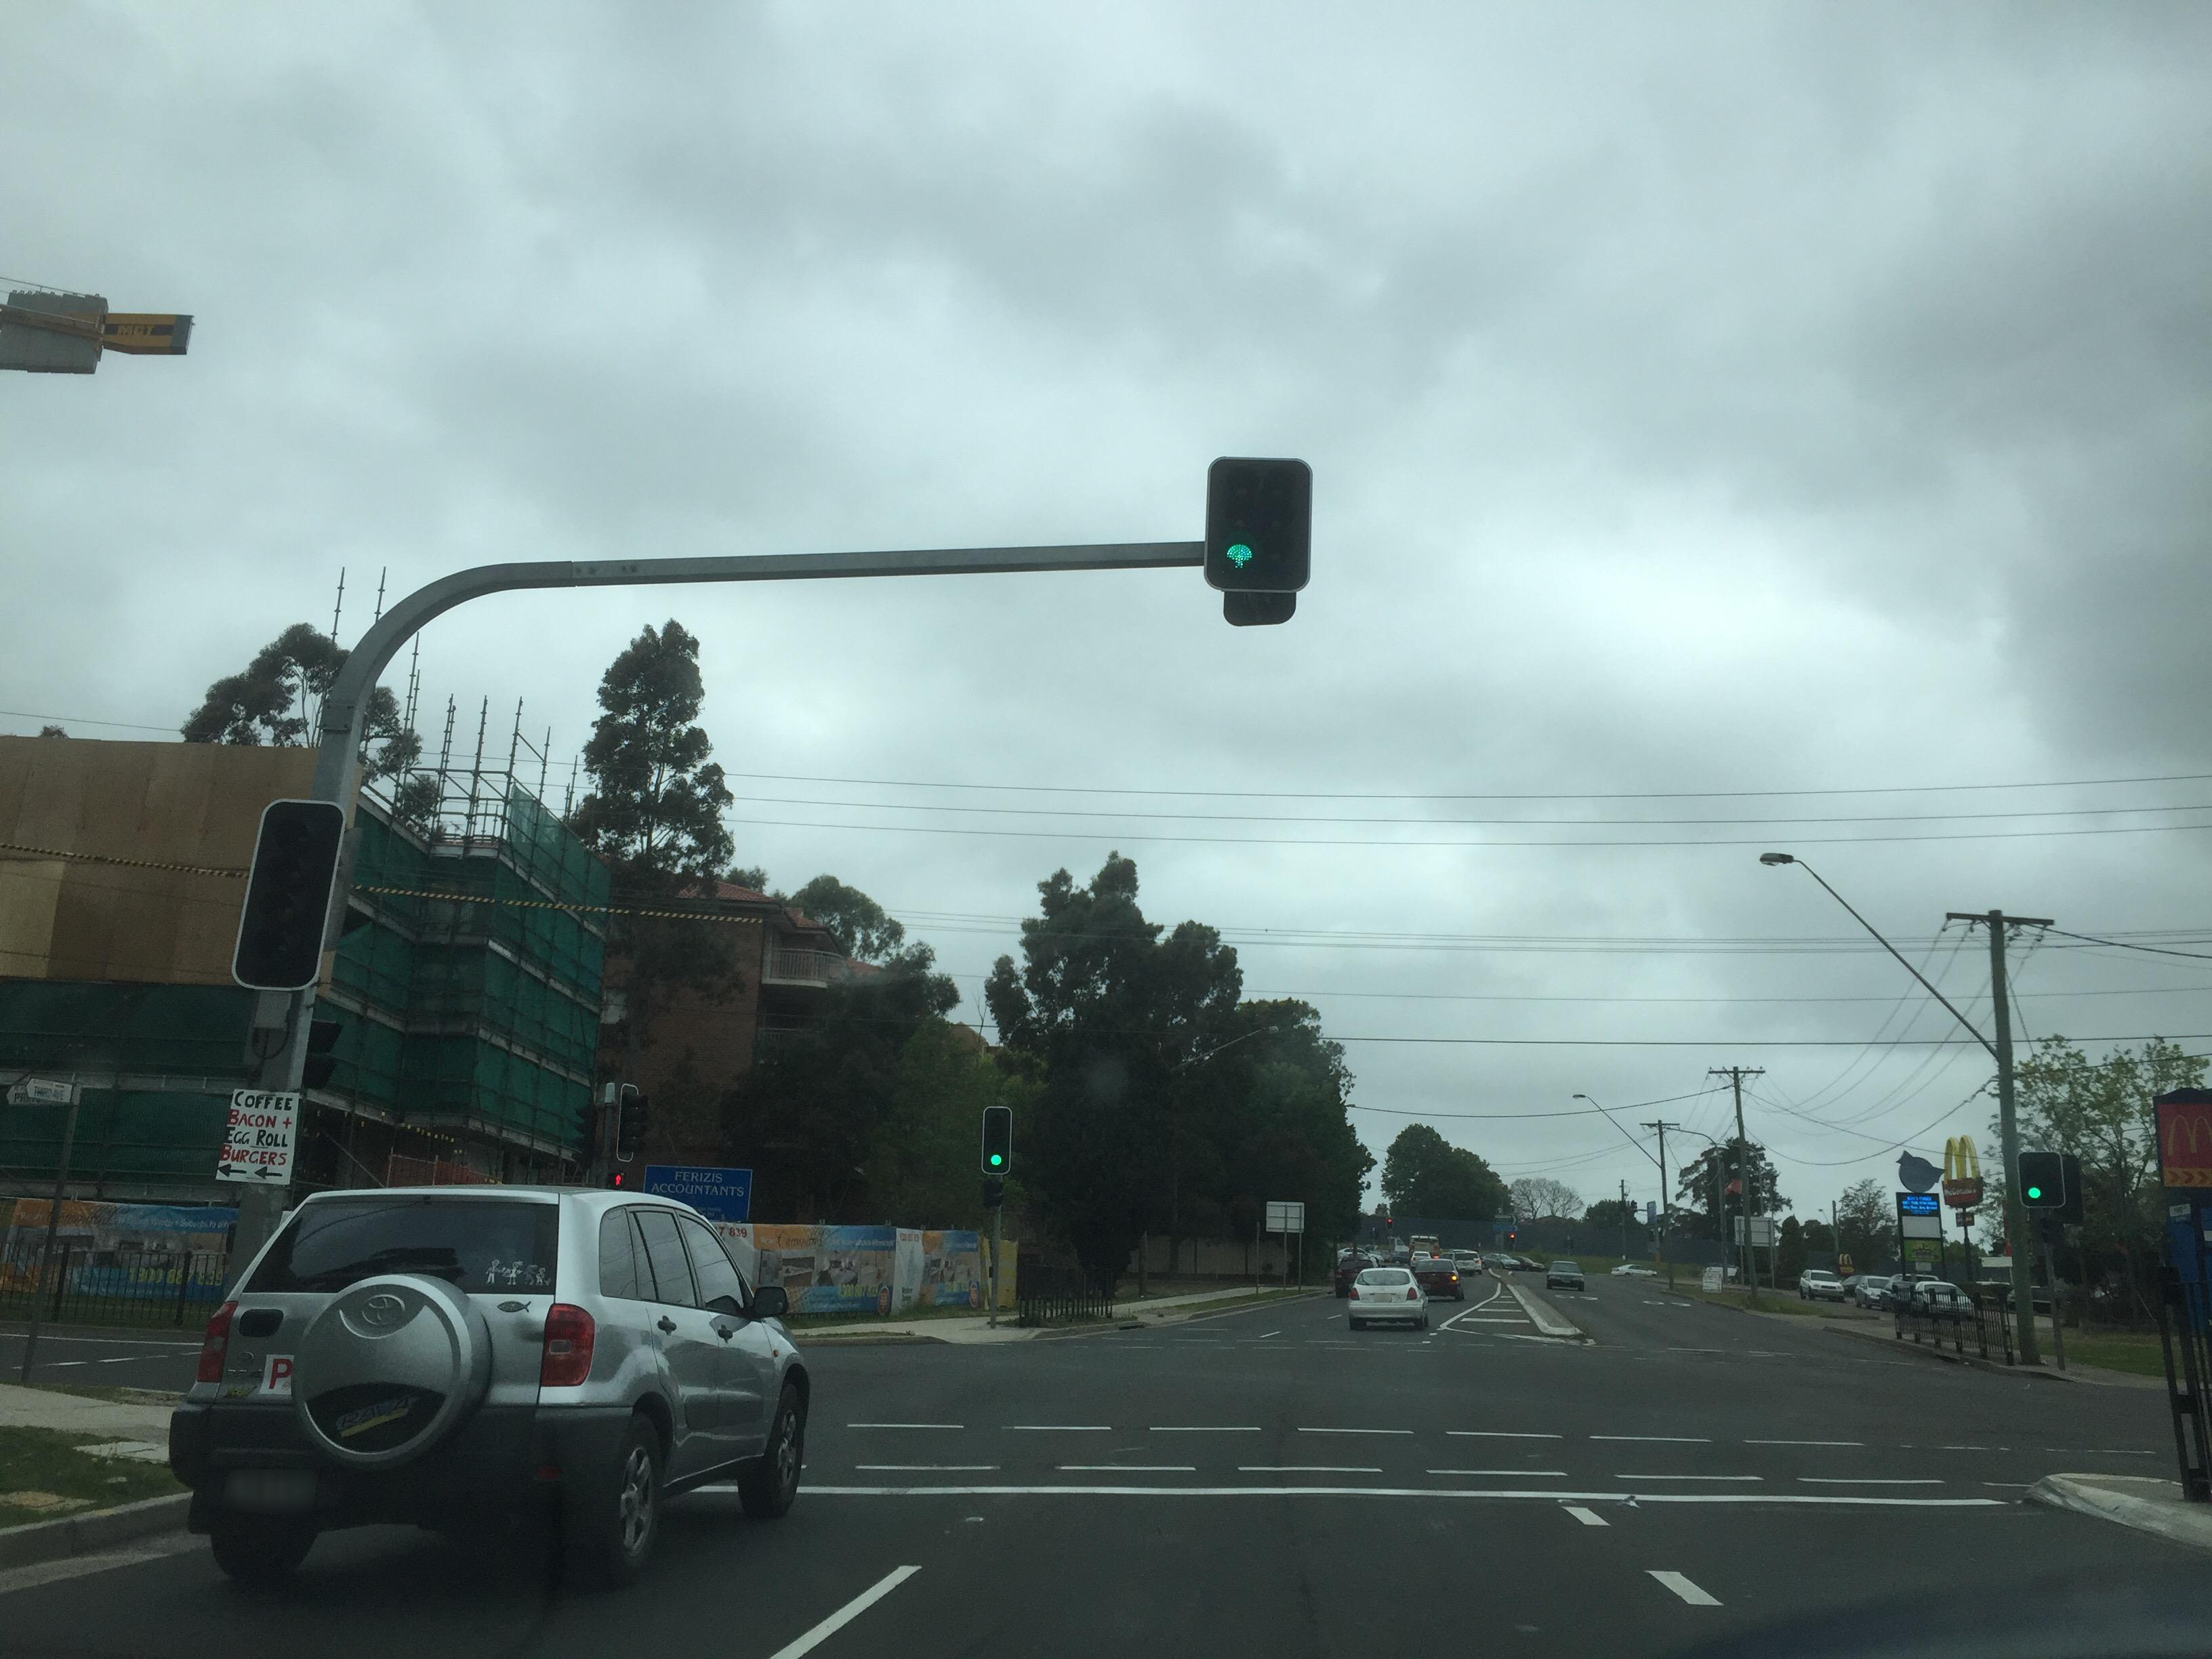vinyl banner: (721, 1209, 1029, 1324), (7, 1178, 242, 1316)
